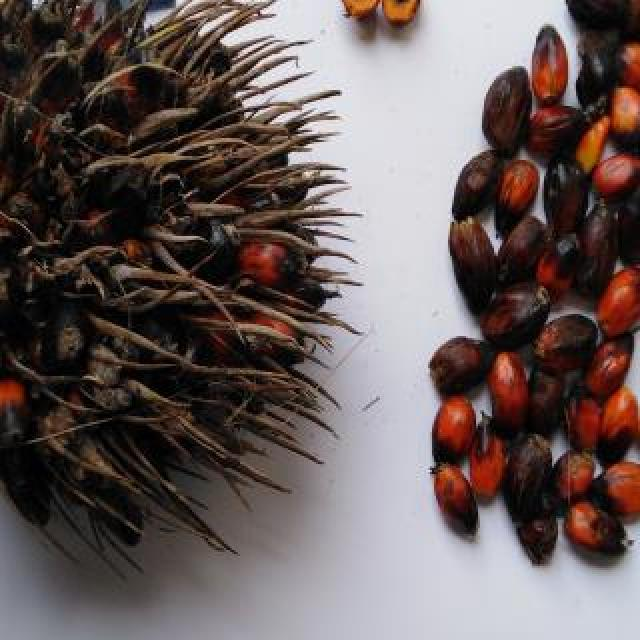Unripe: (0, 0, 362, 598)
